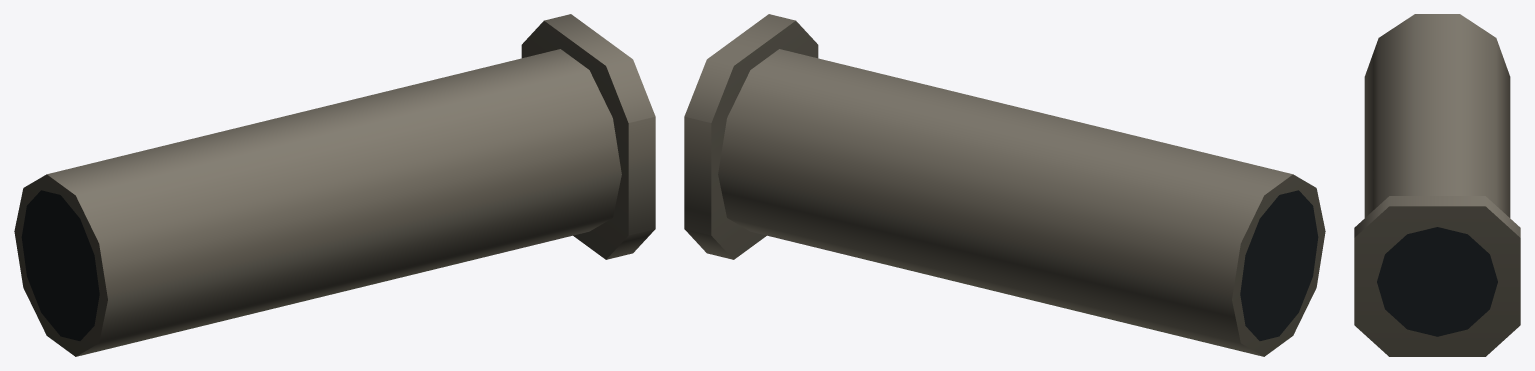
The model's file is Pipe_1D.fbx.
3 renders of one model, left to right at view 1: azimuth 30°, elevation 25°; view 2: azimuth 150°, elevation 25°; view 3: azimuth 270°, elevation 25°, orthographic. The views are drawn at different scales.
Visible parts, largest first — view 1: Pipe_1D; view 2: Pipe_1D; view 3: Pipe_1D.
Part boxes in pixels (x1,y1,x2,y2): Pipe_1D: (14,14,655,356); Pipe_1D: (684,14,1325,356); Pipe_1D: (1354,14,1520,356).
Bounding box in the file's own units: 401 × 137 × 137.
